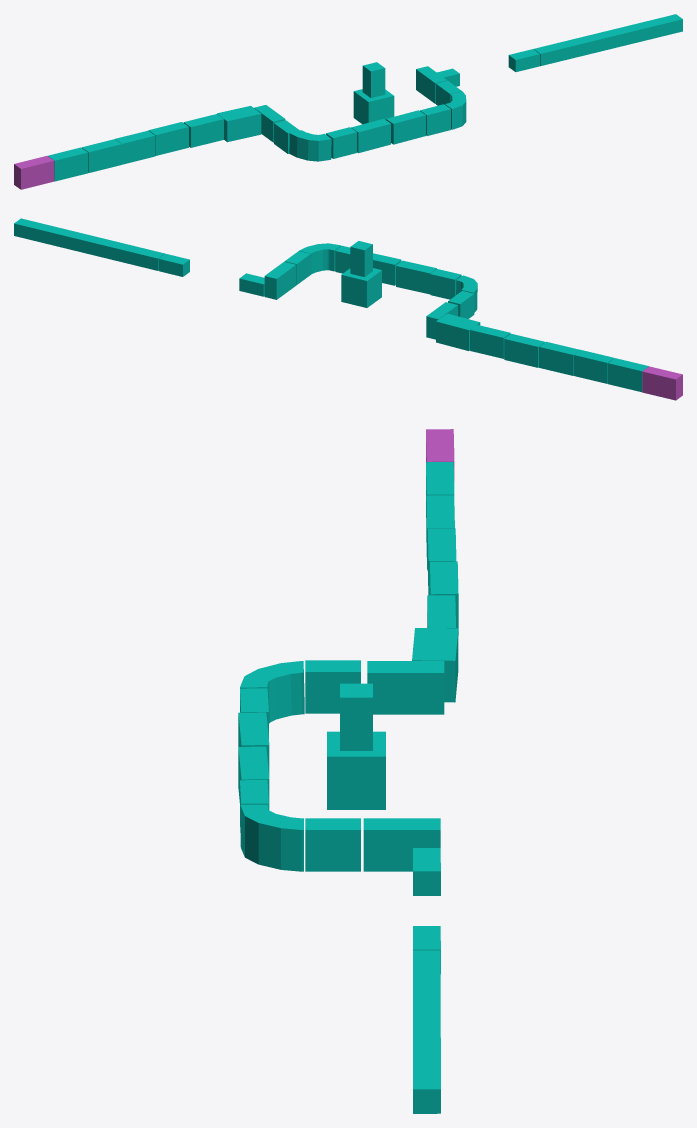
File: experiment.obj
3 renders of one model, top to bottom at view 1: azimuth 30°, elevation 25°; view 2: azimuth 150°, elevation 25°; view 3: azimuth 270°, elevation 25°, orthographic. The views are drawn at different scales.
Parts seen in each view (by area): view 1: flatBlockB.002_Cube.012, BlockA.004_Cube.008, corner.001_Cube.005, Cube, BlockA.011_Cube.021, BlockA.002_Cube.004, BlockA.006_Cube.014, BlockA.008_Cube.016, BlockA.010_Cube.018, BlockA.003_Cube.006, BlockA.007_Cube.015, BlockA.009_Cube.017 (+9 smaller); view 2: flatBlockB.002_Cube.012, Cube, BlockA.011_Cube.021, BlockA.004_Cube.008, BlockA.006_Cube.014, BlockA.009_Cube.017, BlockA.003_Cube.006, BlockA.007_Cube.015, BlockA.010_Cube.018, BlockA.008_Cube.016, BlockA.001_Cube.023, corner_Cube.002 (+10 smaller); view 3: flatBlockB.002_Cube.012, BlockA.005_Cube.013, Cube, corner_Cube.002, BlockA.001_Cube.023, BlockB_Cube.019, corner.001_Cube.005, BlockB.003_Cube.009, Cube.001_Cube.020, BlockA.004_Cube.008, flatBlockB_Cube.010, BlockA.003_Cube.006 (+4 smaller).
Part boxes in pixels (x1,y1,x2,y2): flatBlockB.002_Cube.012: [533, 14, 682, 66]; BlockA.004_Cube.008: [217, 106, 261, 142]; corner.001_Cube.005: [289, 130, 331, 161]; Cube: [353, 89, 394, 124]; BlockA.011_Cube.021: [14, 156, 54, 189]; BlockA.002_Cube.004: [386, 110, 425, 144]; BlockA.006_Cube.014: [183, 114, 223, 147]; BlockA.008_Cube.016: [115, 130, 155, 164]; BlockA.010_Cube.018: [48, 147, 87, 181]; BlockA.003_Cube.006: [351, 119, 390, 153]; BlockA.007_Cube.015: [148, 122, 188, 155]; BlockA.009_Cube.017: [81, 139, 121, 172]; flatBlockB.002_Cube.012: [14, 218, 164, 270]; Cube: [341, 268, 381, 307]; BlockA.011_Cube.021: [642, 366, 682, 400]; BlockA.004_Cube.008: [436, 313, 480, 350]; BlockA.006_Cube.014: [470, 325, 510, 358]; BlockA.009_Cube.017: [573, 349, 614, 383]; BlockA.003_Cube.006: [396, 260, 436, 294]; BlockA.007_Cube.015: [504, 333, 544, 367]; BlockA.010_Cube.018: [608, 358, 648, 392]; BlockA.008_Cube.016: [539, 341, 579, 375]; BlockA.001_Cube.023: [264, 262, 296, 299]; corner_Cube.002: [299, 243, 341, 274]; flatBlockB.002_Cube.012: [413, 950, 440, 1113]; BlockA.005_Cube.013: [367, 661, 444, 714]; Cube: [327, 731, 385, 809]; corner_Cube.002: [240, 804, 303, 871]; BlockA.001_Cube.023: [363, 818, 440, 871]; BlockB_Cube.019: [305, 818, 360, 871]; corner.001_Cube.005: [240, 661, 304, 723]; BlockB.003_Cube.009: [305, 660, 360, 713]; Cube.001_Cube.020: [340, 683, 372, 750]; BlockA.004_Cube.008: [412, 628, 458, 702]; flatBlockB_Cube.010: [413, 848, 440, 895]; BlockA.003_Cube.006: [238, 712, 269, 775].
Size of what is drawn, in the model's own units: 7.84 by 0.617 by 1.13.
